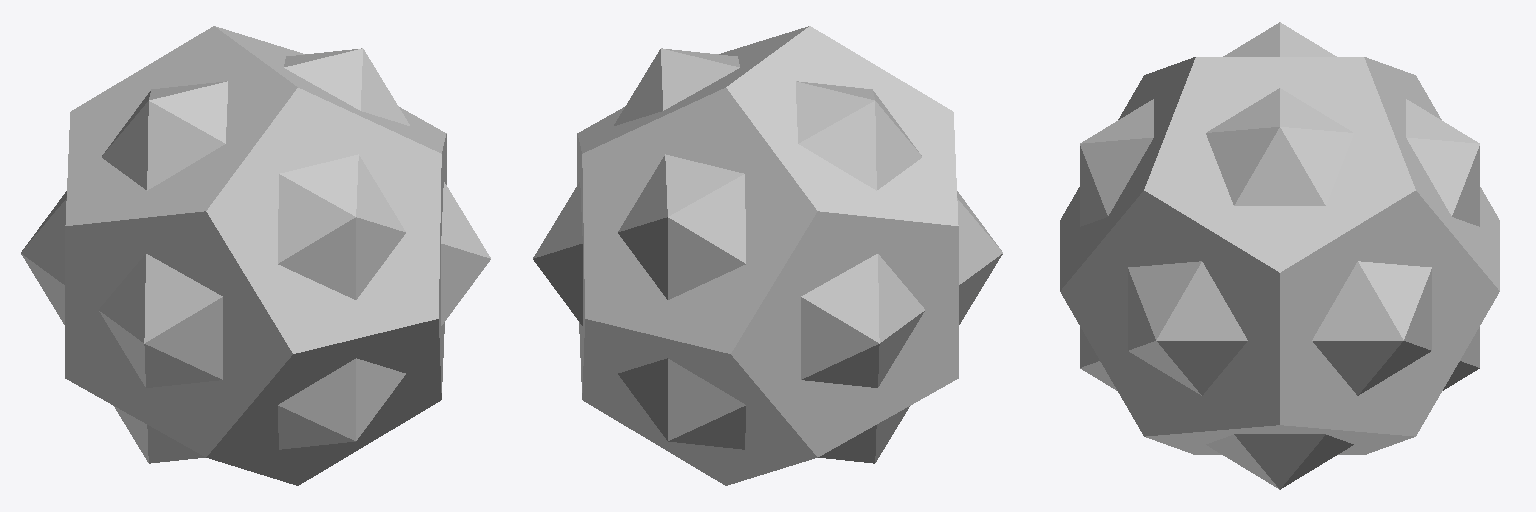
Rendered from dSpikeBall.obj.
The picture shows the model from 3 angles: view 1: azimuth 30°, elevation 25°; view 2: azimuth 150°, elevation 25°; view 3: azimuth 270°, elevation 25°; orthographic projection.
Visible parts, largest first — view 1: d12_Solid.004, d20_Solid.005; view 2: d12_Solid.004, d20_Solid.005; view 3: d12_Solid.004, d20_Solid.005.
Part boxes in pixels (left/top/right/bottom): d12_Solid.004: left=65, top=26, right=446, bottom=485; d20_Solid.005: left=21, top=48, right=490, bottom=463; d12_Solid.004: left=577, top=26, right=958, bottom=485; d20_Solid.005: left=533, top=48, right=1002, bottom=463; d12_Solid.004: left=1060, top=57, right=1499, bottom=454; d20_Solid.005: left=1080, top=22, right=1479, bottom=489.
Size of the model in its own units: 1.87 by 1.87 by 1.87.